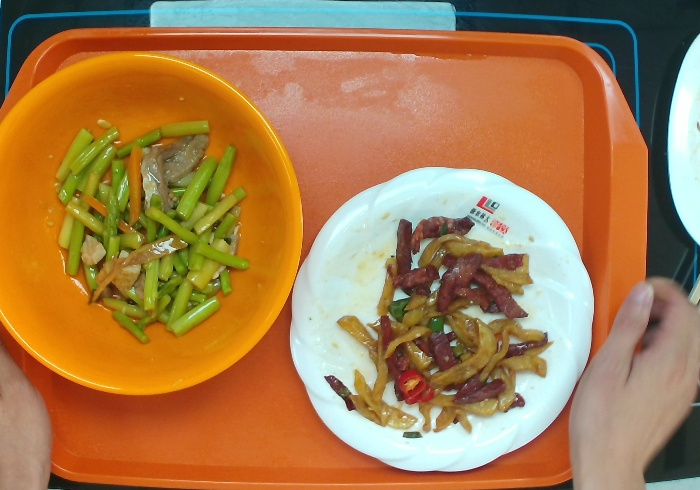ZNLD-Hua_Bian_Wan: (278, 149, 606, 480)
ZNLD-Ju_Se_Tang_Wan: (1, 39, 312, 409)
